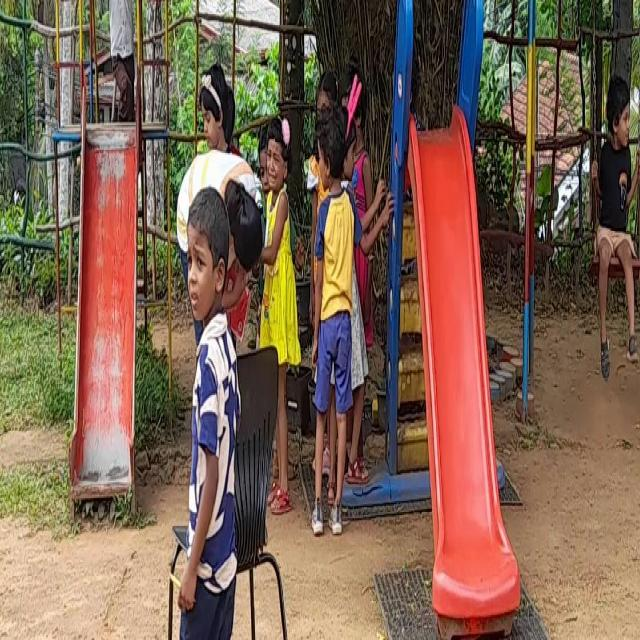child: (148, 190, 270, 640), (310, 123, 356, 540), (587, 58, 640, 378), (86, 0, 142, 125)
